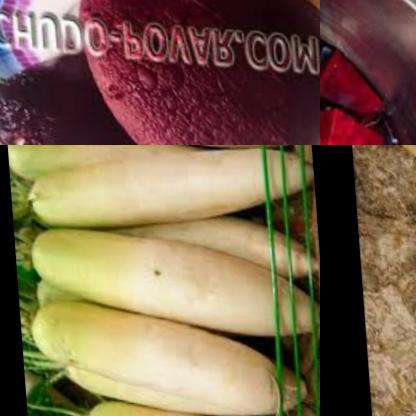beet: (66, 0, 320, 145), (0, 53, 157, 145), (320, 0, 416, 145)
redka: (22, 218, 314, 335), (23, 294, 296, 411), (18, 145, 312, 240), (129, 203, 315, 276), (49, 352, 225, 416), (77, 387, 317, 416), (4, 145, 186, 181), (25, 273, 74, 310)
